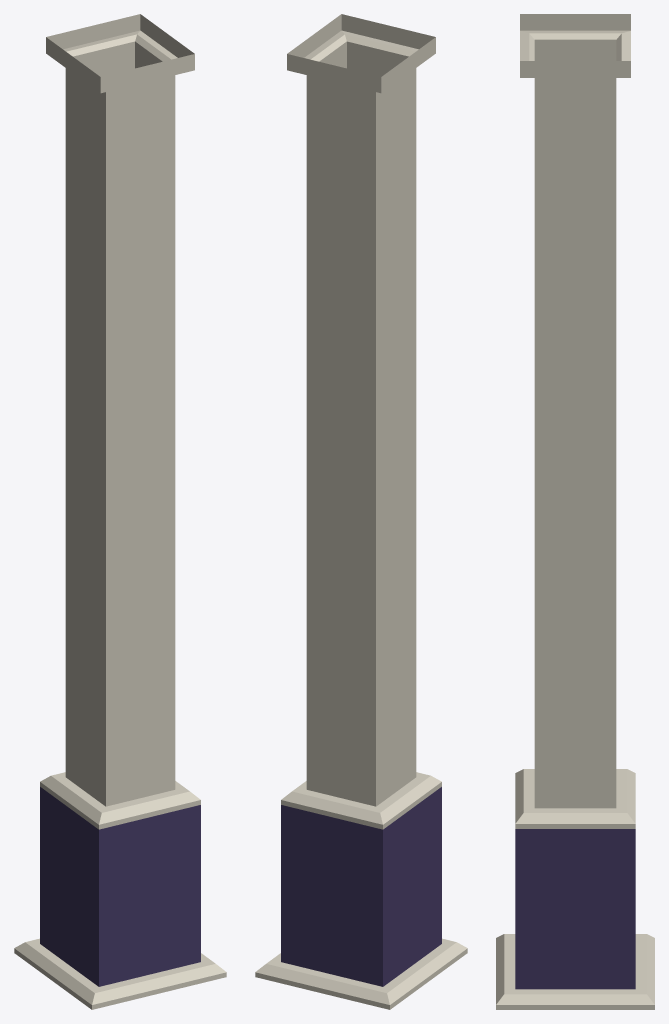
The model's file is Pilar01.fbx.
3 views of the same model, side by side, from view 1: azimuth 30°, elevation 25°; view 2: azimuth 150°, elevation 25°; view 3: azimuth 270°, elevation 25° (orthographic). The views are drawn at different scales.
Visible parts, largest first — view 1: Pilar; view 2: Pilar; view 3: Pilar.
Part boxes in pixels (x1,y1,x2,y2): Pilar: (14,14,226,1009); Pilar: (255,14,467,1009); Pilar: (496,14,654,1009).
Size of the model in its own units: 58.28 by 380 by 58.28.
